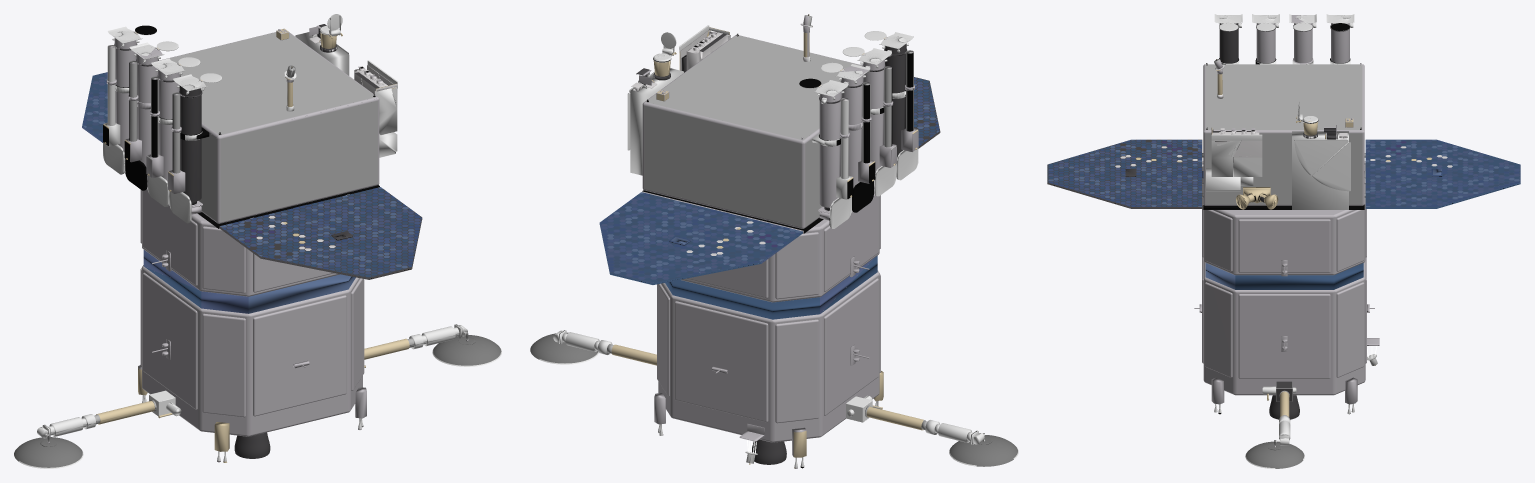
File: Solar Dynamics Observatory.glb
3 renders of one model, left to right at view 1: azimuth 30°, elevation 25°; view 2: azimuth 150°, elevation 25°; view 3: azimuth 270°, elevation 25°, orthographic. The views are drawn at different scales.
Parts seen in each view (by area): view 1: Fake; view 2: Fake; view 3: Fake.
Part boxes in pixels (<box>): Fake: <box>14,14,501,468</box>; Fake: <box>530,14,1018,468</box>; Fake: <box>1047,14,1520,468</box>.
Bounding box in the file's own units: 37.02 × 30.75 × 37.03.
